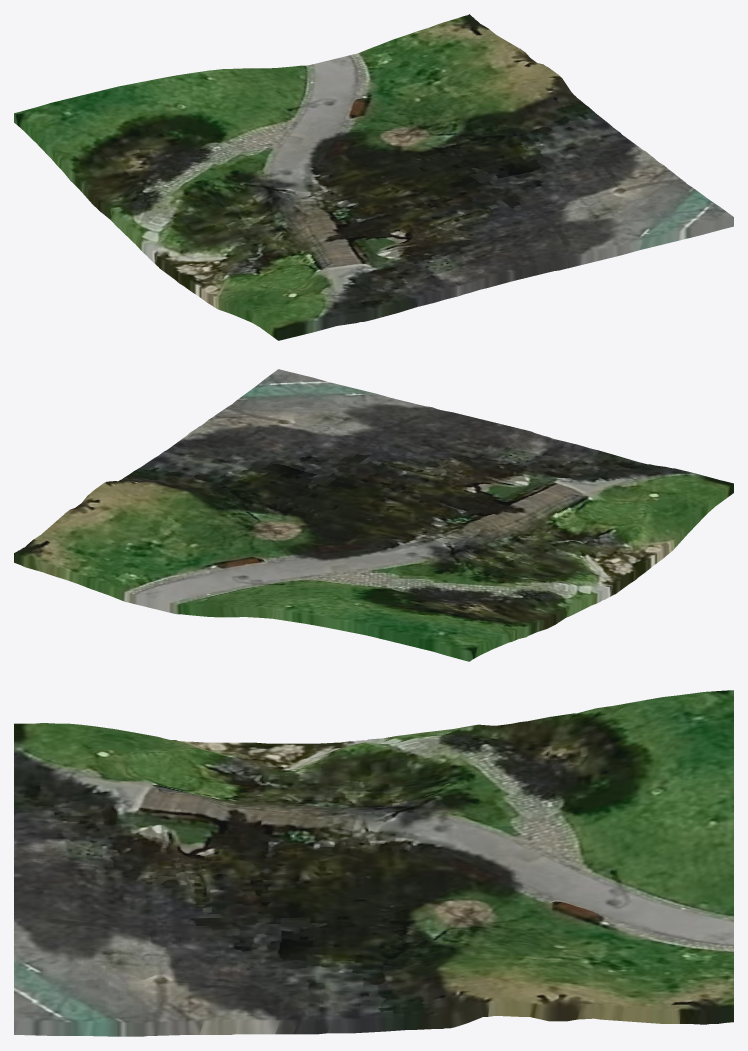
The model's file is z20-167767-405192-h0-yup-uvflip-v3-world.glb.
3 views of the same model, one above another, from view 1: azimuth 30°, elevation 25°; view 2: azimuth 150°, elevation 25°; view 3: azimuth 270°, elevation 25° (orthographic). The views are drawn at different scales.
Bounding box in the file's own units: 30.16 × 3.2 × 30.32.
1 material, 1 textured.
